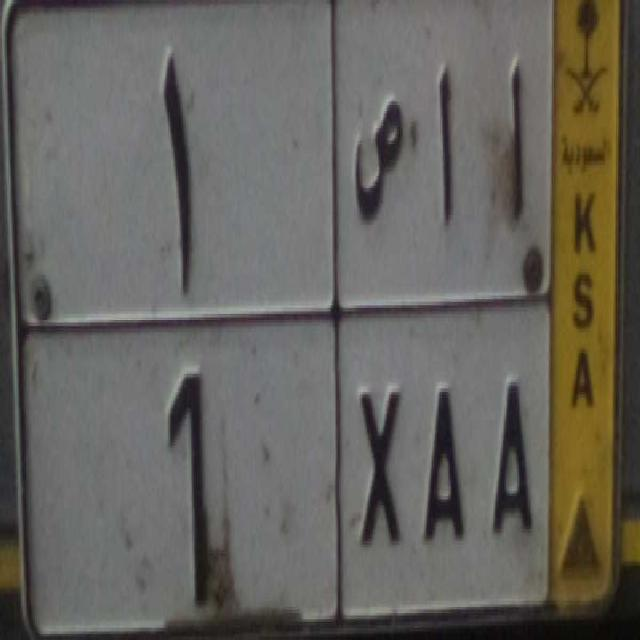license_plate: (12, 307, 552, 640)
